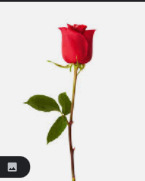RedRose: (59, 22, 95, 67)
